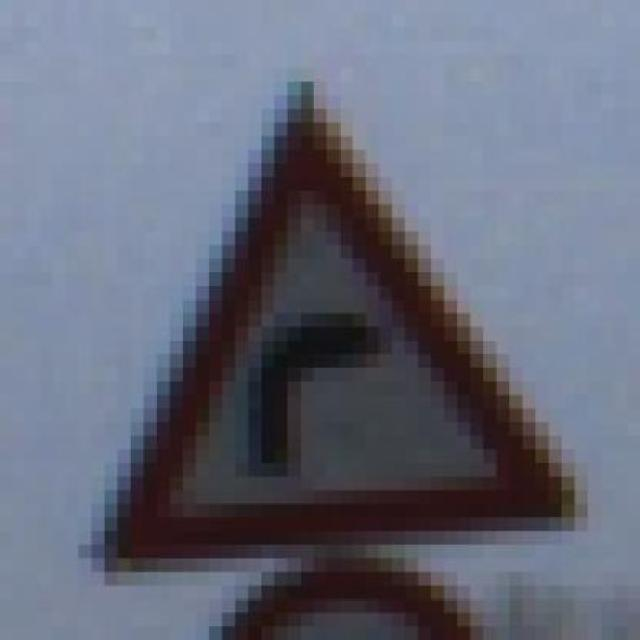Dangerous Rright Curve Ahead: (66, 68, 574, 558)
